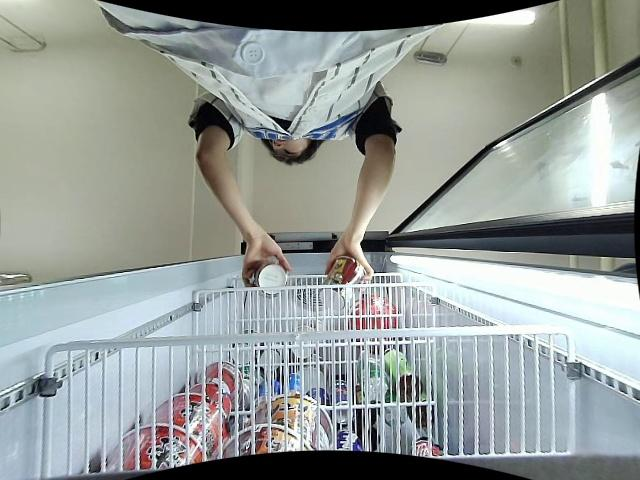00_hand: (241, 237, 290, 286), (324, 242, 375, 282)
06_nuguri_S: (317, 259, 368, 313), (255, 258, 288, 293)
